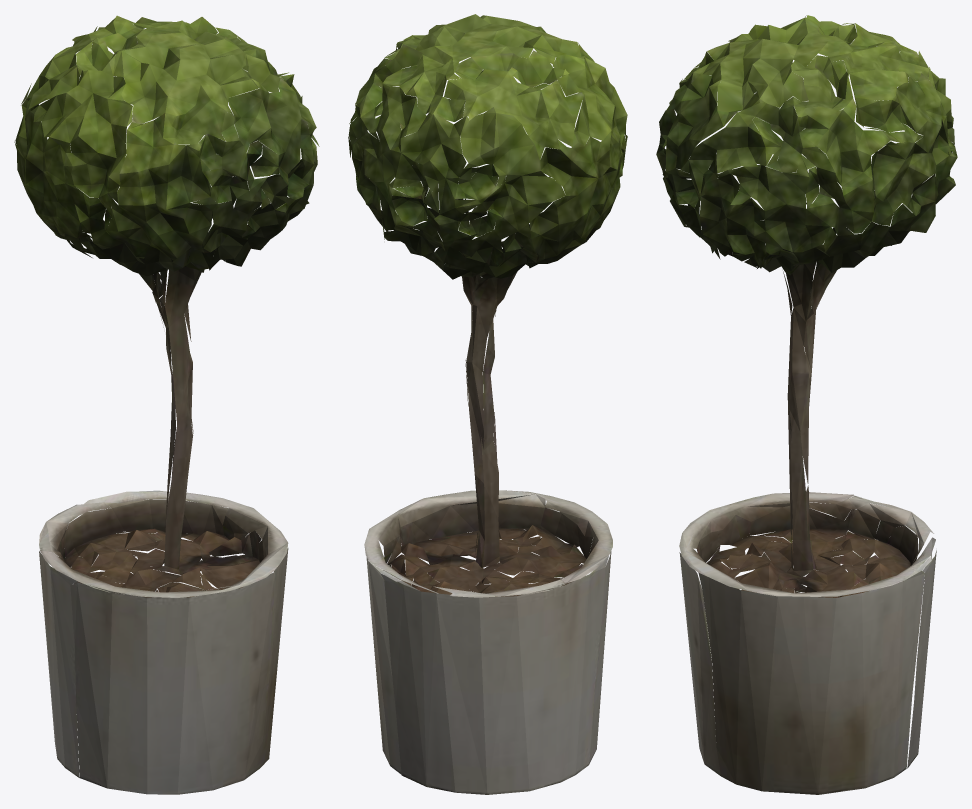
Rendered from x-topiaire-pot.glb.
3 views of the same model, side by side, from view 1: azimuth 30°, elevation 25°; view 2: azimuth 150°, elevation 25°; view 3: azimuth 270°, elevation 25° (orthographic).
Visible parts, largest first — view 1: geometry_0; view 2: geometry_0; view 3: geometry_0.
Part boxes in pixels (x1=…): geometry_0: x1=14, y1=15, x2=319, y2=794; geometry_0: x1=348, y1=14, x2=627, y2=794; geometry_0: x1=656, y1=15, x2=957, y2=794.
Size of the model in its own units: 0.3685 by 0.9994 by 0.3836.
Materials: 1 (1 with a texture image).
